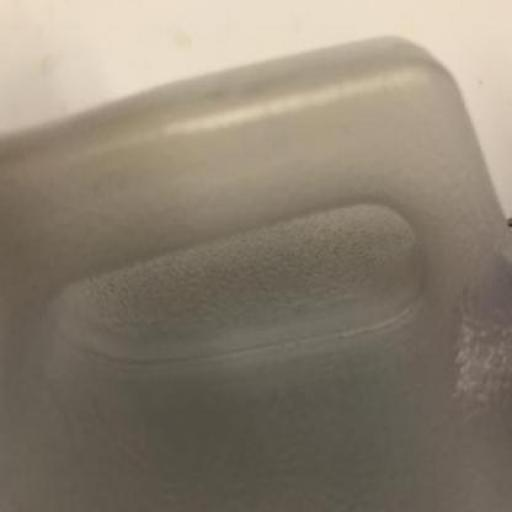plastic: (0, 34, 511, 511)
